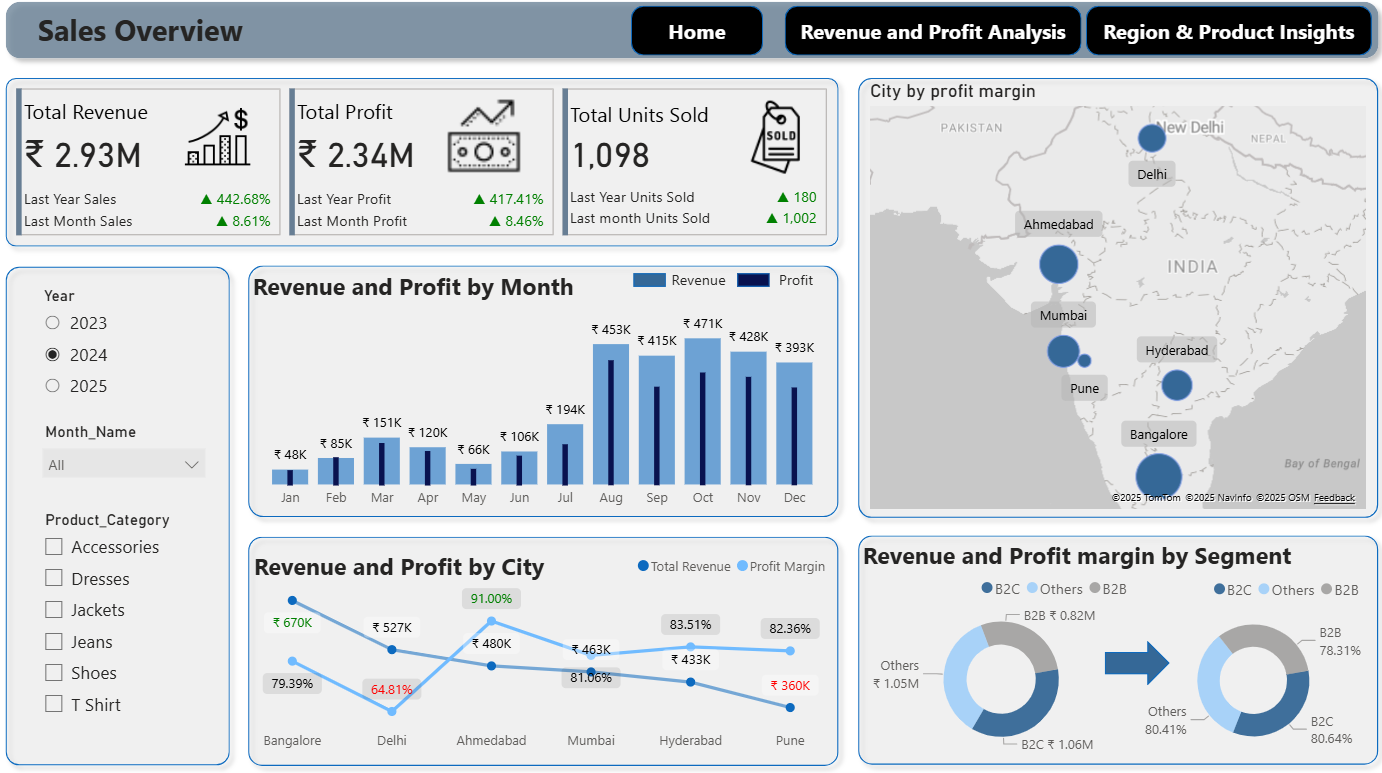

The page's visual inventory and layout, read from the dashboard file:
{"tool":"powerbi","page":{"name":"Sales Performance","canvas":[1280,720],"ordinal":1},"visuals":[{"type":"shape","box":[0,69.7,783.7,172.9],"z":0},{"type":"shape","box":[0,243.8,223.9,476.4],"z":1000},{"type":"shape","box":[223.5,242.9,560.7,249.3],"z":2000},{"type":"shape","box":[784.2,69.8,496.1,422.4],"z":3000},{"type":"shape","box":[223.5,492.2,560.7,228.7],"z":4000},{"type":"shape","box":[784.2,490.9,496.1,228.7],"z":5000},{"type":"shape","box":[0,0,1280.3,70],"z":6000},{"type":"cardVisual","fields":{"Data":["Measures (2).Total_Sales","Measures (2).Total Profit","Key Measures.Total Units Sold"]},"box":[13.7,83.3,756.3,145.5],"z":7000},{"type":"slicer","fields":{"Values":["DateTable.Year"]},"box":[31.1,265,172.9,125.6],"z":8000},{"type":"textbox","box":[32.9,11.4,238.6,45.7],"z":9000},{"type":"slicer","fields":{"Values":["DateTable.Month_Name"]},"box":[32.3,390.6,170.4,83.3],"z":11000},{"type":"slicer","fields":{"Values":["Snitch_Fashion_Sales_Uncleaned.Product_Category"]},"box":[32.3,471.5,170.4,212.7],"z":12000},{"type":"columnChart","fields":{"Category":["DateTable.Month_Name"],"Y":["Key Measures.Total Revenue"]},"box":[232.6,282.4,541.1,200.3],"z":13000},{"type":"azureMap","title":"City by profit margin","fields":{"Category":["Snitch_Fashion_Sales_Uncleaned.City"],"Size":["Key Measures.Total Profit"]},"box":[798.3,80.5,465.6,399.8],"z":14000},{"type":"lineChart","fields":{"Y":["Measures (2).Total_Sales"],"Y2":["Measures (2).Profit Margin"],"Category":["Snitch_Fashion_Sales_Uncleaned.City"]},"box":[231.4,507.5,541.1,199],"z":15000},{"type":"donutChart","fields":{"Category":["Snitch_Fashion_Sales_Uncleaned.Segment"],"Y":["Key Measures.Total Revenue"]},"box":[798.6,527.4,251.3,179.1],"z":16000},{"type":"textbox","box":[792.4,497.6,436.6,41.1],"z":17000},{"type":"image","box":[159.2,94.5,88.3,78.4],"z":19000},{"type":"image","box":[393.1,83.3,110.7,97],"z":20000},{"type":"image","box":[675.5,94.5,82.1,78.4],"z":21000},{"type":"shape","box":[586.1,258.7,29.9,12.4],"z":22000},{"type":"textbox","box":[616,250,78.4,27.4],"z":23000},{"type":"shape","box":[681.9,258.7,29.9,12.4],"z":24000},{"type":"textbox","box":[715.5,250,78.4,27.4],"z":25000},{"type":"textbox","box":[231.4,250,319.7,41.1],"z":26000},{"type":"textbox","box":[232.6,507.5,319.7,41.1],"z":27000},{"type":"donutChart","fields":{"Category":["Snitch_Fashion_Sales_Uncleaned.Segment"],"Y":["Measures (2).Profit Margin"]},"box":[1049.9,528.7,214,179.1],"z":28000},{"type":"shape","box":[1020,597.1,59.7,41.1],"z":29000},{"type":"shape","box":[725.7,12.9,272.9,45.7],"z":29003},{"type":"shape","box":[1002.9,12.9,262.9,45.7],"z":29004},{"type":"shape","box":[584.3,12.9,121.4,45.7],"z":29005}]}

Visuals, with their boxes in screenshot pixels (x1, y1, x2, y2), scaled from the page's 1280x720 canvas onto the 1382x773 screenshot:
shape: bbox=(0, 75, 846, 260)
shape: bbox=(0, 262, 242, 772)
shape: bbox=(241, 261, 847, 528)
shape: bbox=(847, 75, 1381, 528)
shape: bbox=(241, 528, 847, 772)
shape: bbox=(847, 527, 1381, 772)
shape: bbox=(0, 0, 1381, 75)
cardVisual - Measures (2).Total_Sales x Measures (2).Total Profit: bbox=(15, 89, 831, 246)
slicer - DateTable.Year: bbox=(34, 285, 220, 419)
textbox: bbox=(36, 12, 293, 61)
slicer - DateTable.Month_Name: bbox=(35, 419, 219, 509)
slicer - Snitch_Fashion_Sales_Uncleaned.Product_Category: bbox=(35, 506, 219, 735)
columnChart - DateTable.Month_Name x Key Measures.Total Revenue: bbox=(251, 303, 835, 518)
"City by profit margin" azureMap: bbox=(862, 86, 1365, 516)
lineChart - Measures (2).Total_Sales x Measures (2).Profit Margin: bbox=(250, 545, 834, 759)
donutChart - Snitch_Fashion_Sales_Uncleaned.Segment x Key Measures.Total Revenue: bbox=(862, 566, 1134, 759)
textbox: bbox=(856, 534, 1327, 578)
image: bbox=(172, 101, 267, 186)
image: bbox=(424, 89, 544, 194)
image: bbox=(729, 101, 818, 186)
shape: bbox=(633, 278, 665, 291)
textbox: bbox=(665, 268, 750, 298)
shape: bbox=(736, 278, 769, 291)
textbox: bbox=(773, 268, 857, 298)
textbox: bbox=(250, 268, 595, 313)
textbox: bbox=(251, 545, 596, 589)
donutChart - Snitch_Fashion_Sales_Uncleaned.Segment x Measures (2).Profit Margin: bbox=(1134, 568, 1365, 760)
shape: bbox=(1101, 641, 1166, 685)
shape: bbox=(784, 14, 1078, 63)
shape: bbox=(1083, 14, 1367, 63)
shape: bbox=(631, 14, 762, 63)
